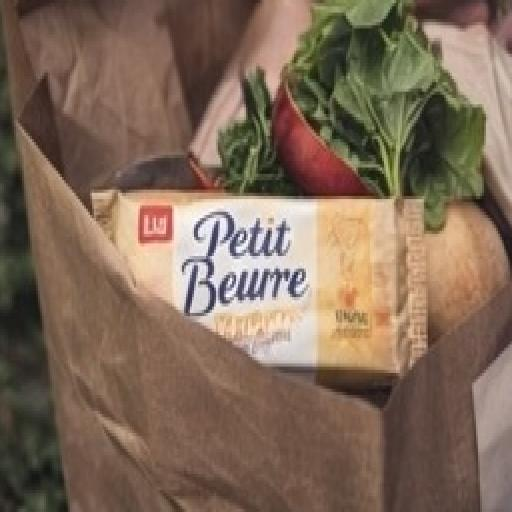petit-beurre: (62, 120, 461, 453)
